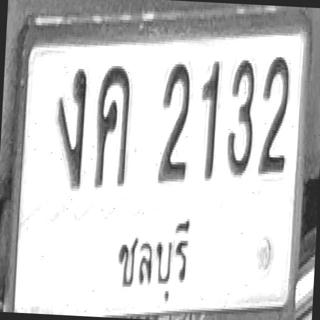A04: (94, 62, 132, 186)
A07: (53, 64, 88, 188)
N01: (198, 58, 220, 179)
N02: (157, 59, 191, 182), (258, 53, 291, 176)
N03: (226, 56, 256, 175)
P13: (108, 211, 198, 315)
